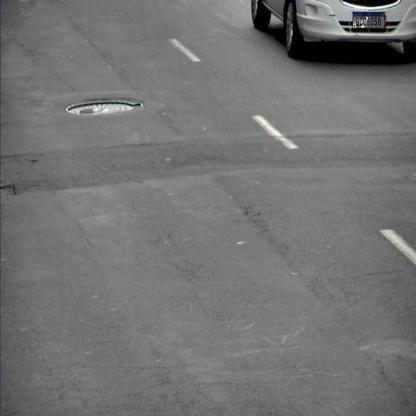PlacaM: (352, 12, 384, 28)
